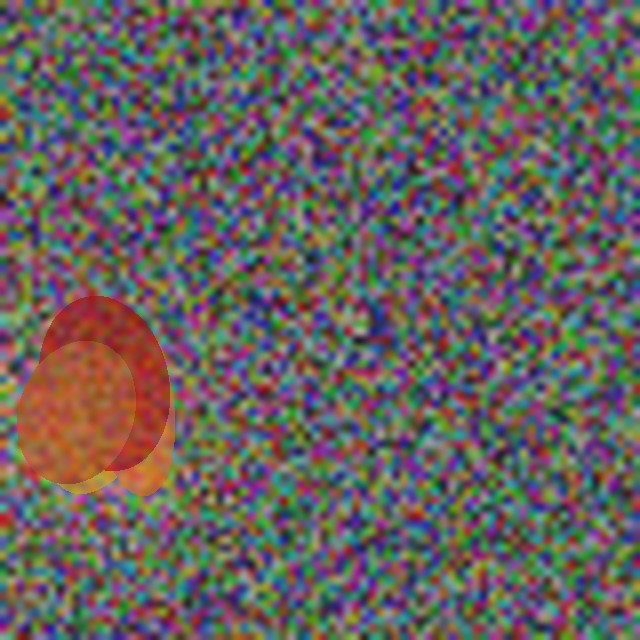fire: (31, 354, 161, 500)
